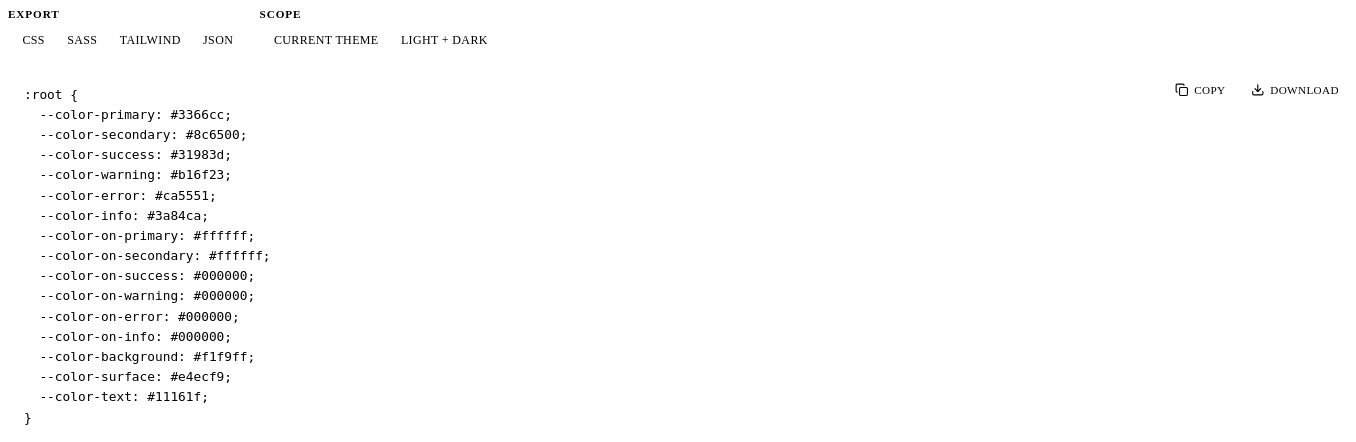
ExportPanel › switches to the Sass snippet when that format is picked
What coordinates should you click on to do the following:
click the radio button labelled "Sass"
I would click on:
 (82, 40)
Its box is [56, 27, 108, 53].
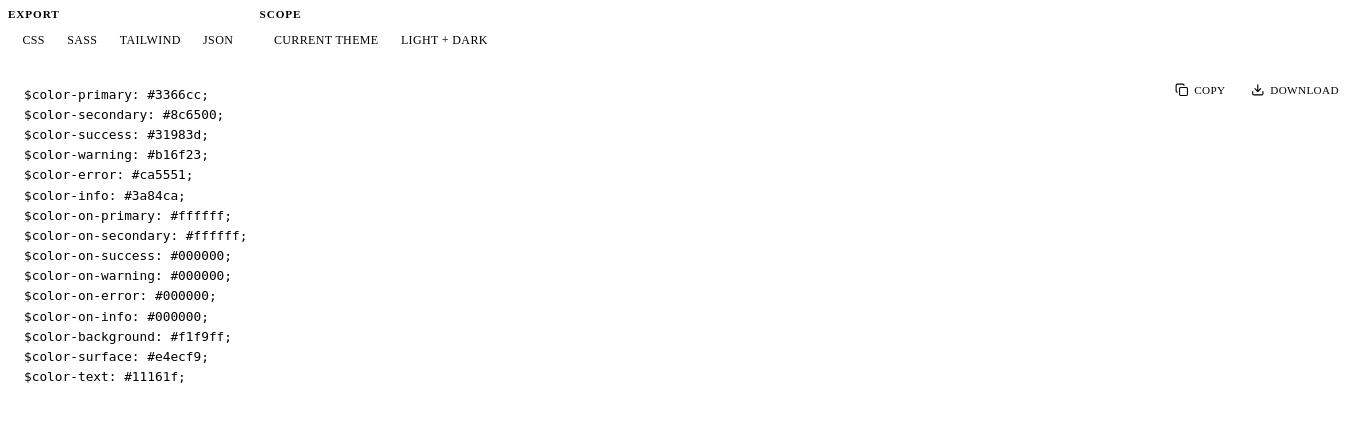
expect the text "$color-primary:" is shown: met, box [24, 87, 247, 384]
